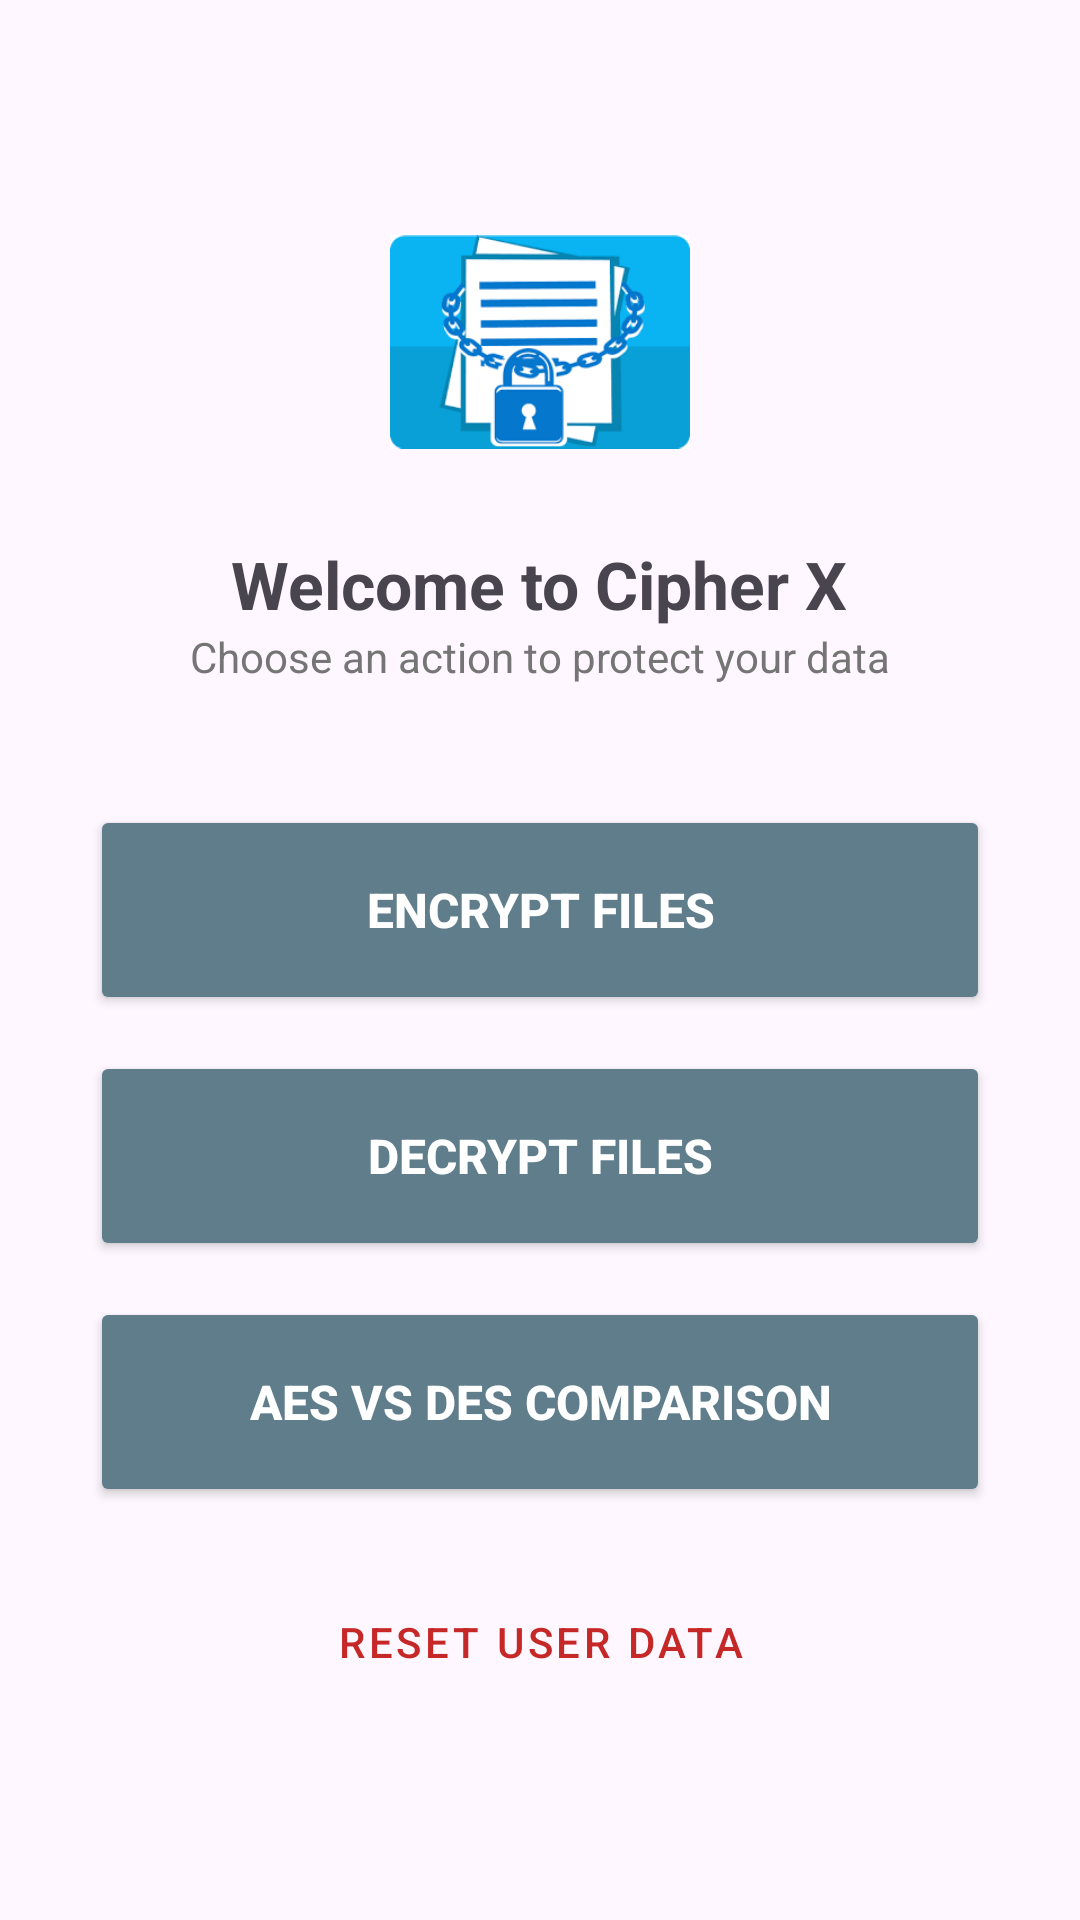

Named icons in this screenshot (1080×1920) and their bounding boxes, (x1, y1, x2, y2):
file encryption: (390, 235, 690, 449)
